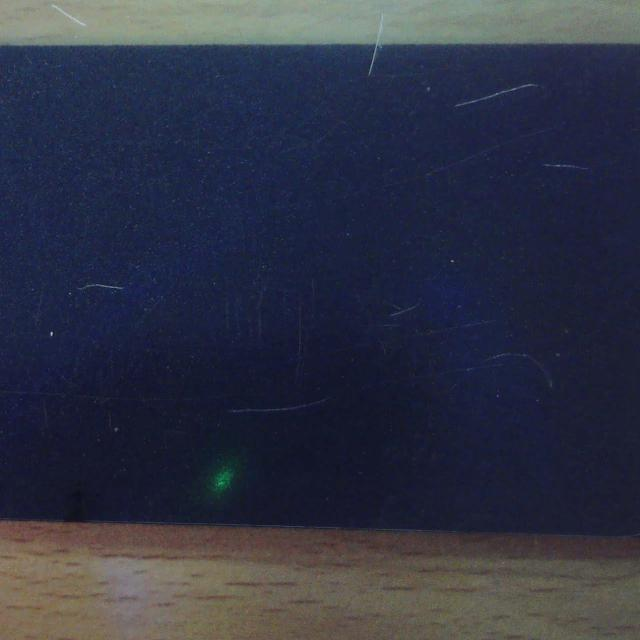defect: (454, 82, 543, 111), (230, 398, 327, 420), (79, 275, 127, 301), (542, 156, 588, 178), (364, 46, 384, 80)
